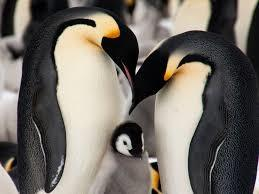emporer: (3, 9, 157, 194), (131, 15, 259, 194)
